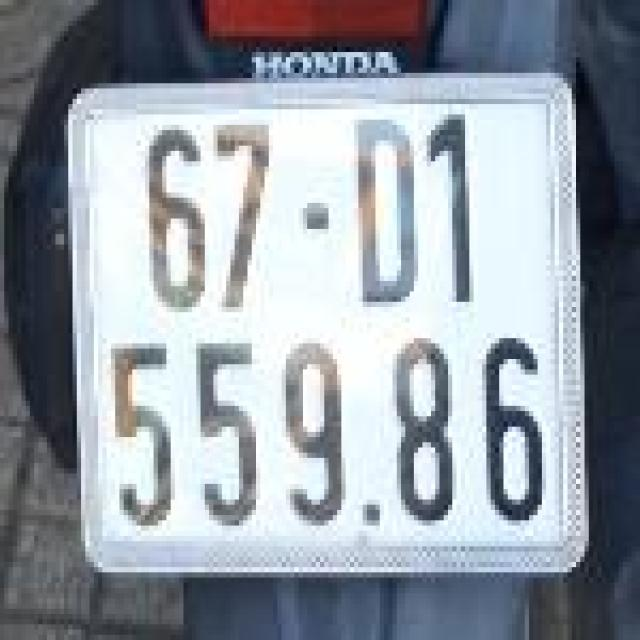1: (425, 106, 484, 314)
5: (100, 331, 177, 534), (190, 331, 267, 534)
6: (478, 322, 555, 530), (139, 120, 211, 312)
7: (213, 114, 273, 328)
8: (386, 328, 463, 536)
9: (277, 333, 354, 531)
D: (344, 101, 421, 320)
